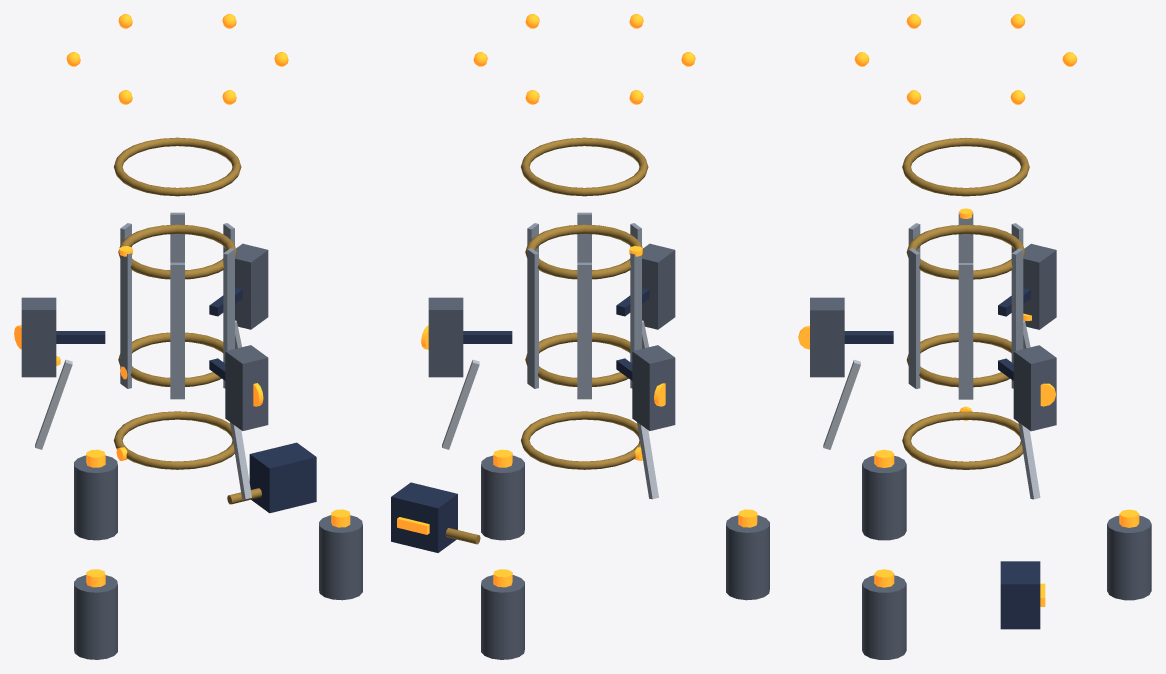
The model's file is tower_overclock_potency_s9.glb.
3 renders of one model, left to right at view 1: azimuth 30°, elevation 25°; view 2: azimuth 150°, elevation 25°; view 3: azimuth 270°, elevation 25°, orthographic.
Visible parts, largest first — view 1: overclock_trap_coupler, overclock_cap0, overclock_cap1, overclock_cap2, overclock_aura_emitter2, overclock_aura_emitter0, overclock_aura_emitter1, overclock_conductor_b2.36, overclock_conductor_b1.14, overclock_vane5, overclock_conductor1.98, overclock_conductor1.5 (+6 smaller); view 2: overclock_trap_coupler, overclock_cap1, overclock_cap0, overclock_cap2, overclock_aura_emitter0, overclock_aura_emitter1, overclock_aura_emitter2, overclock_conductor_b2.36, overclock_conductor_b1.14, overclock_vane1, overclock_conductor1.98, overclock_vane2 (+6 smaller); view 3: overclock_cap0, overclock_cap2, overclock_cap1, overclock_aura_emitter1, overclock_aura_emitter2, overclock_trap_coupler, overclock_aura_emitter0, overclock_conductor_b2.36, overclock_conductor_b1.14, overclock_vane3, overclock_conductor1.98, overclock_vane4 (+6 smaller).
Part boxes in pixels (left/top/right/bottom): overclock_trap_coupler: left=249, top=442, right=316, bottom=513; overclock_cap0: left=74, top=455, right=117, bottom=540; overclock_cap1: left=319, top=515, right=362, bottom=600; overclock_cap2: left=74, top=575, right=117, bottom=659; overclock_aura_emitter2: left=225, top=345, right=268, bottom=430; overclock_aura_emitter0: left=21, top=297, right=56, bottom=377; overclock_aura_emitter1: left=235, top=243, right=268, bottom=329; overclock_conductor_b2.36: left=114, top=137, right=241, bottom=196; overclock_conductor_b1.14: left=113, top=411, right=234, bottom=469; overclock_vane5: left=170, top=262, right=184, bottom=399; overclock_conductor1.98: left=118, top=224, right=236, bottom=279; overclock_conductor1.5: left=118, top=332, right=223, bottom=386; overclock_trap_coupler: left=391, top=482, right=457, bottom=552; overclock_cap1: left=481, top=455, right=524, bottom=540; overclock_cap0: left=481, top=575, right=524, bottom=659; overclock_cap2: left=726, top=515, right=769, bottom=600; overclock_aura_emitter0: left=632, top=345, right=675, bottom=430; overclock_aura_emitter1: left=428, top=297, right=463, bottom=377; overclock_aura_emitter2: left=642, top=243, right=675, bottom=329; overclock_conductor_b2.36: left=521, top=137, right=648, bottom=196; overclock_conductor_b1.14: left=521, top=411, right=640, bottom=469; overclock_vane1: left=577, top=262, right=591, bottom=399; overclock_conductor1.98: left=525, top=224, right=643, bottom=279; overclock_vane2: left=527, top=248, right=538, bottom=388; overclock_cap0: left=1107, top=515, right=1151, bottom=600; overclock_cap2: left=862, top=456, right=906, bottom=540; overclock_cap1: left=862, top=575, right=906, bottom=659; overclock_aura_emitter1: left=1013, top=345, right=1056, bottom=431; overclock_aura_emitter2: left=810, top=297, right=844, bottom=377; overclock_trap_coupler: left=1000, top=561, right=1040, bottom=629; overclock_aura_emitter0: left=1023, top=243, right=1056, bottom=329; overclock_conductor_b2.36: left=902, top=138, right=1029, bottom=196; overclock_conductor_b1.14: left=902, top=411, right=1023, bottom=469; overclock_vane3: left=958, top=263, right=973, bottom=399; overclock_conductor1.98: left=906, top=224, right=1025, bottom=279; overclock_vane4: left=908, top=248, right=920, bottom=388.
Bounding box in the file's own units: 1.39 × 2.4 × 1.43.
